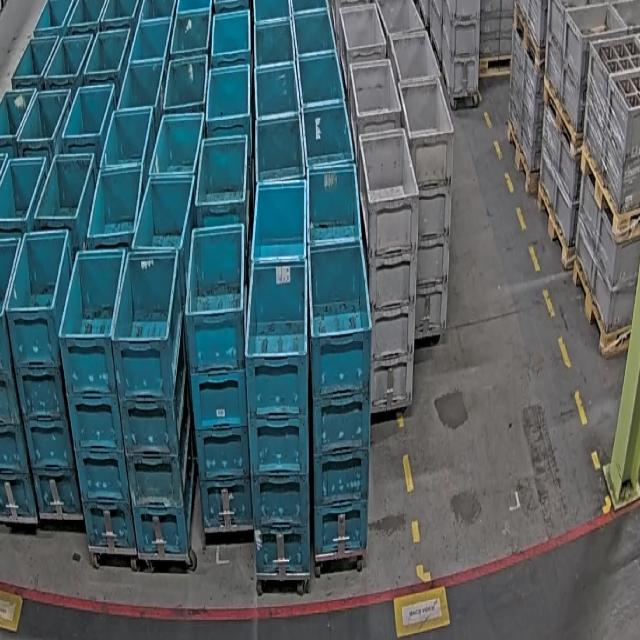4G: (358, 127, 419, 414), (397, 74, 455, 338)
B4: (111, 247, 195, 554), (58, 247, 136, 548), (6, 227, 83, 517), (184, 223, 253, 531), (306, 238, 372, 557), (244, 258, 310, 575), (0, 240, 37, 522)
